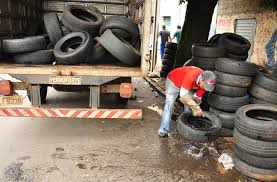tire: (235, 102, 277, 140), (100, 29, 142, 66), (177, 111, 222, 140), (54, 32, 93, 65), (101, 16, 141, 48), (63, 5, 104, 33), (2, 36, 48, 53), (216, 57, 257, 75), (221, 32, 253, 55), (45, 12, 63, 47), (190, 43, 226, 58)
